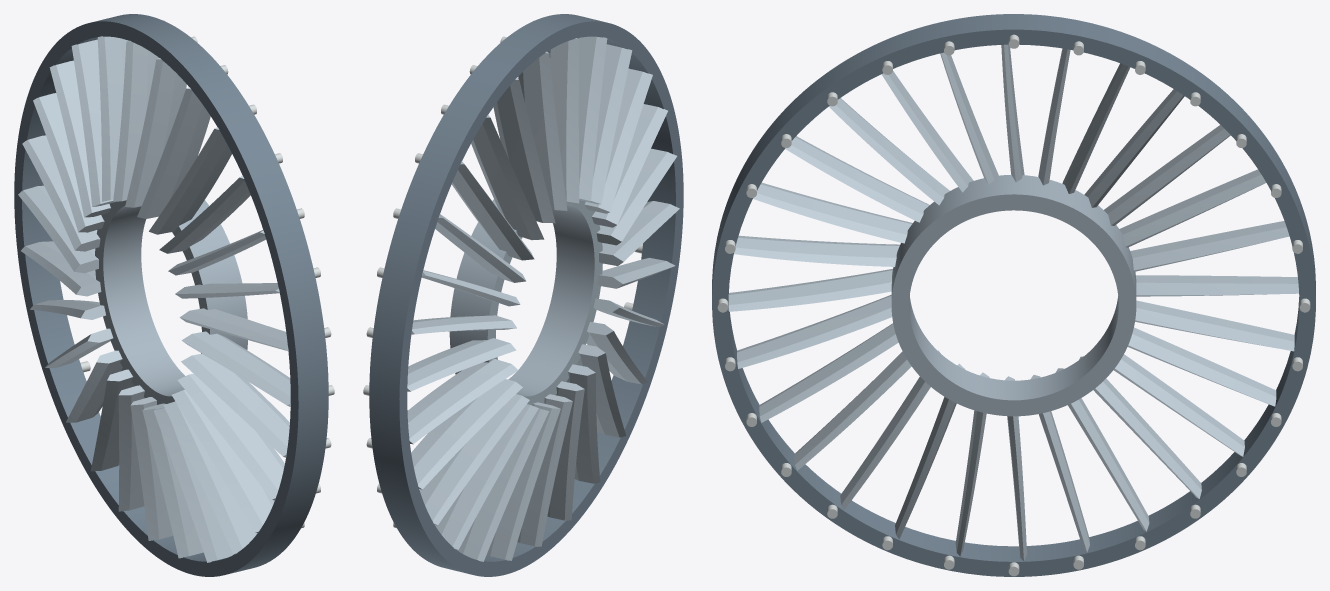
File: stator-vane-ring.glb
3 renders of one model, left to right at view 1: azimuth 30°, elevation 25°; view 2: azimuth 150°, elevation 25°; view 3: azimuth 270°, elevation 25°, orthographic. The views are drawn at different scales.
Visible parts, largest first — view 1: stator-vane-ring - blade, stator-vane-ring - shell, stator-vane-ring - steel, stator-vane-ring - fastener; view 2: stator-vane-ring - blade, stator-vane-ring - shell, stator-vane-ring - steel, stator-vane-ring - fastener; view 3: stator-vane-ring - blade, stator-vane-ring - shell, stator-vane-ring - steel, stator-vane-ring - fastener.
Boxes of the visible parts, x1=… form: stator-vane-ring - blade: x1=18, y1=36, x2=290, y2=562; stator-vane-ring - shell: x1=14, y1=14, x2=328, y2=576; stator-vane-ring - steel: x1=95, y1=200, x2=247, y2=404; stator-vane-ring - fastener: x1=80, y1=20, x2=334, y2=528; stator-vane-ring - blade: x1=407, y1=36, x2=679, y2=561; stator-vane-ring - shell: x1=369, y1=14, x2=683, y2=576; stator-vane-ring - steel: x1=449, y1=199, x2=602, y2=405; stator-vane-ring - fastener: x1=363, y1=20, x2=642, y2=528; stator-vane-ring - blade: x1=728, y1=44, x2=1298, y2=560; stator-vane-ring - shell: x1=712, y1=14, x2=1315, y2=576; stator-vane-ring - steel: x1=891, y1=175, x2=1136, y2=416; stator-vane-ring - fastener: x1=717, y1=34, x2=1310, y2=576.
Bounding box in the file's own units: 0.2346 × 1.71 × 1.71.
